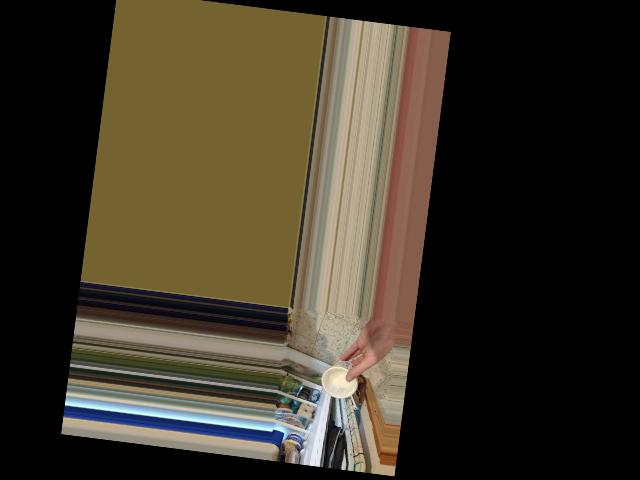cotage: (326, 358, 362, 402)
